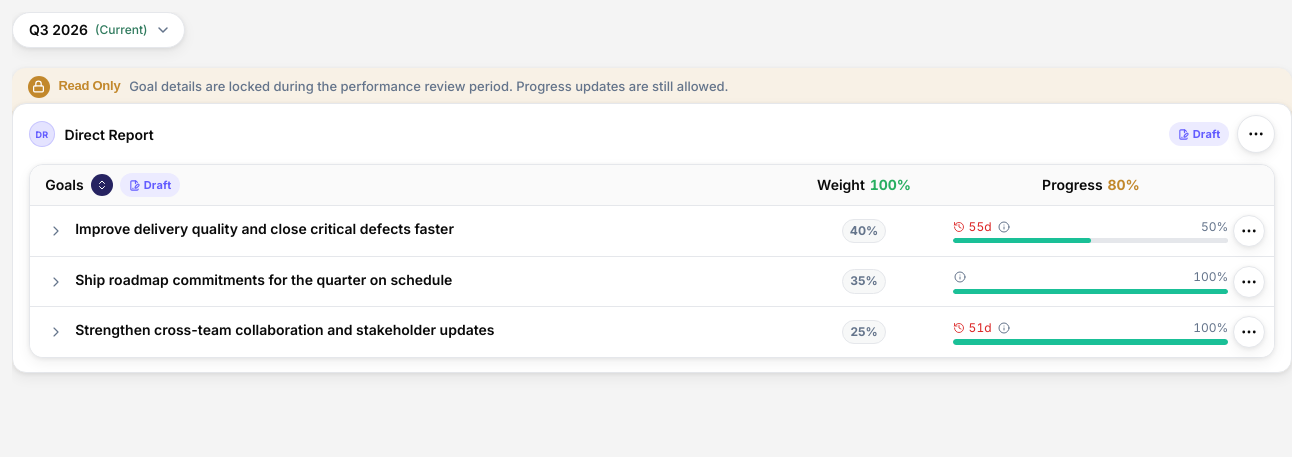
GoalsPersonDetail submission status › expands nested measures from the goal row arrow
Expected: the text "Defects closed" is not shown
Click the button named "Expand Improve delivery quality and close critical defects faster" at x=56, y=231, box [45,220,67,242]
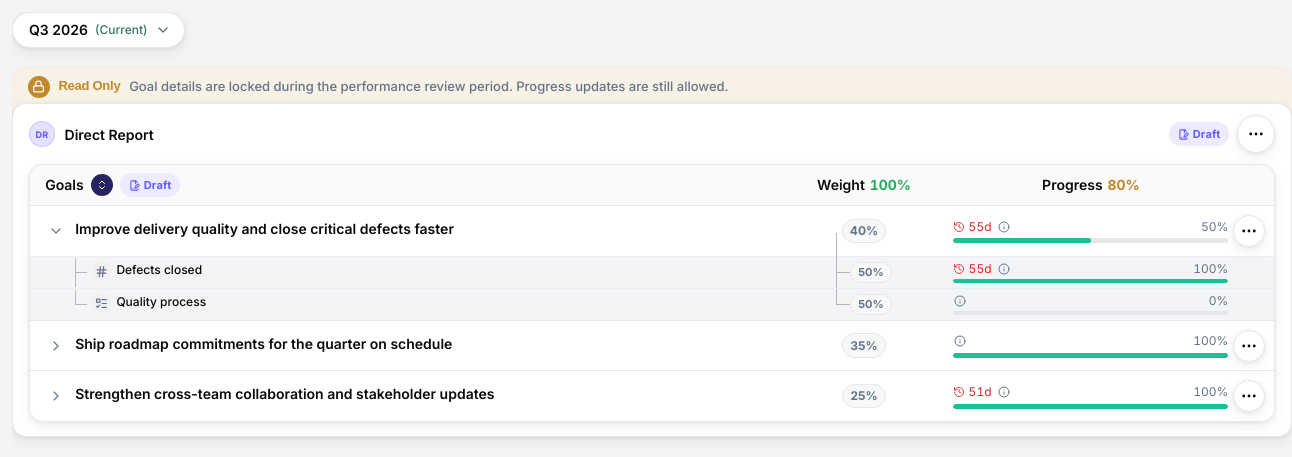
Now the button named "Collapse Improve delivery quality and close critical defects faster" is expanded, box [45,220,67,242]
Now the text "Defects closed" is shown, box [116,262,202,278]
